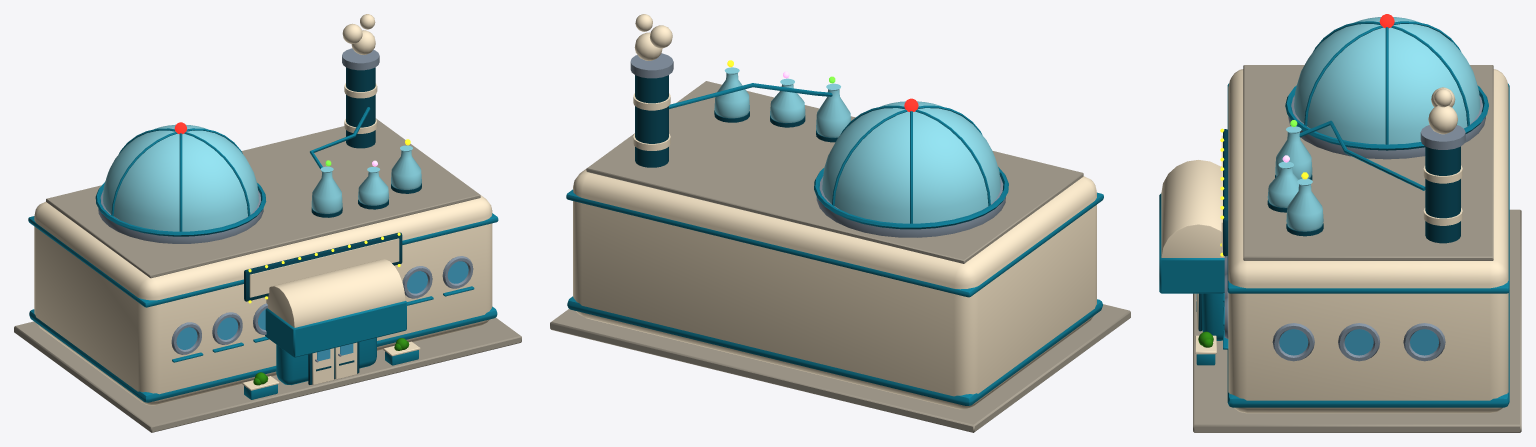
The model's file is LabBuilding.fbx.
The picture shows the model from 3 angles, left to right: view 1: azimuth 30°, elevation 25°; view 2: azimuth 150°, elevation 25°; view 3: azimuth 270°, elevation 25°; orthographic projection. The views are drawn at different scales.
Visible parts, largest first — view 1: LabBuilding; view 2: LabBuilding; view 3: LabBuilding.
Boxes of the visible parts, <box> form: LabBuilding: <box>14,14,521,432</box>; LabBuilding: <box>550,14,1130,432</box>; LabBuilding: <box>1159,14,1521,432</box>.
Bounding box in the file's own units: 27.4 × 18.6 × 19.4.
